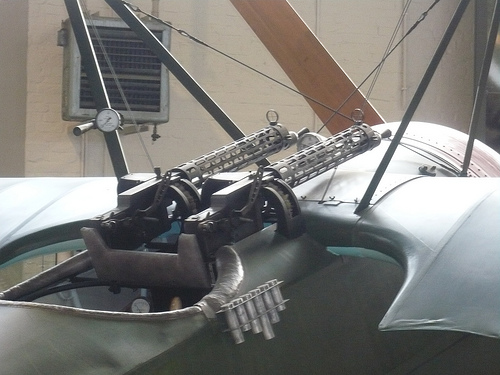rifle: (56, 119, 387, 297)
